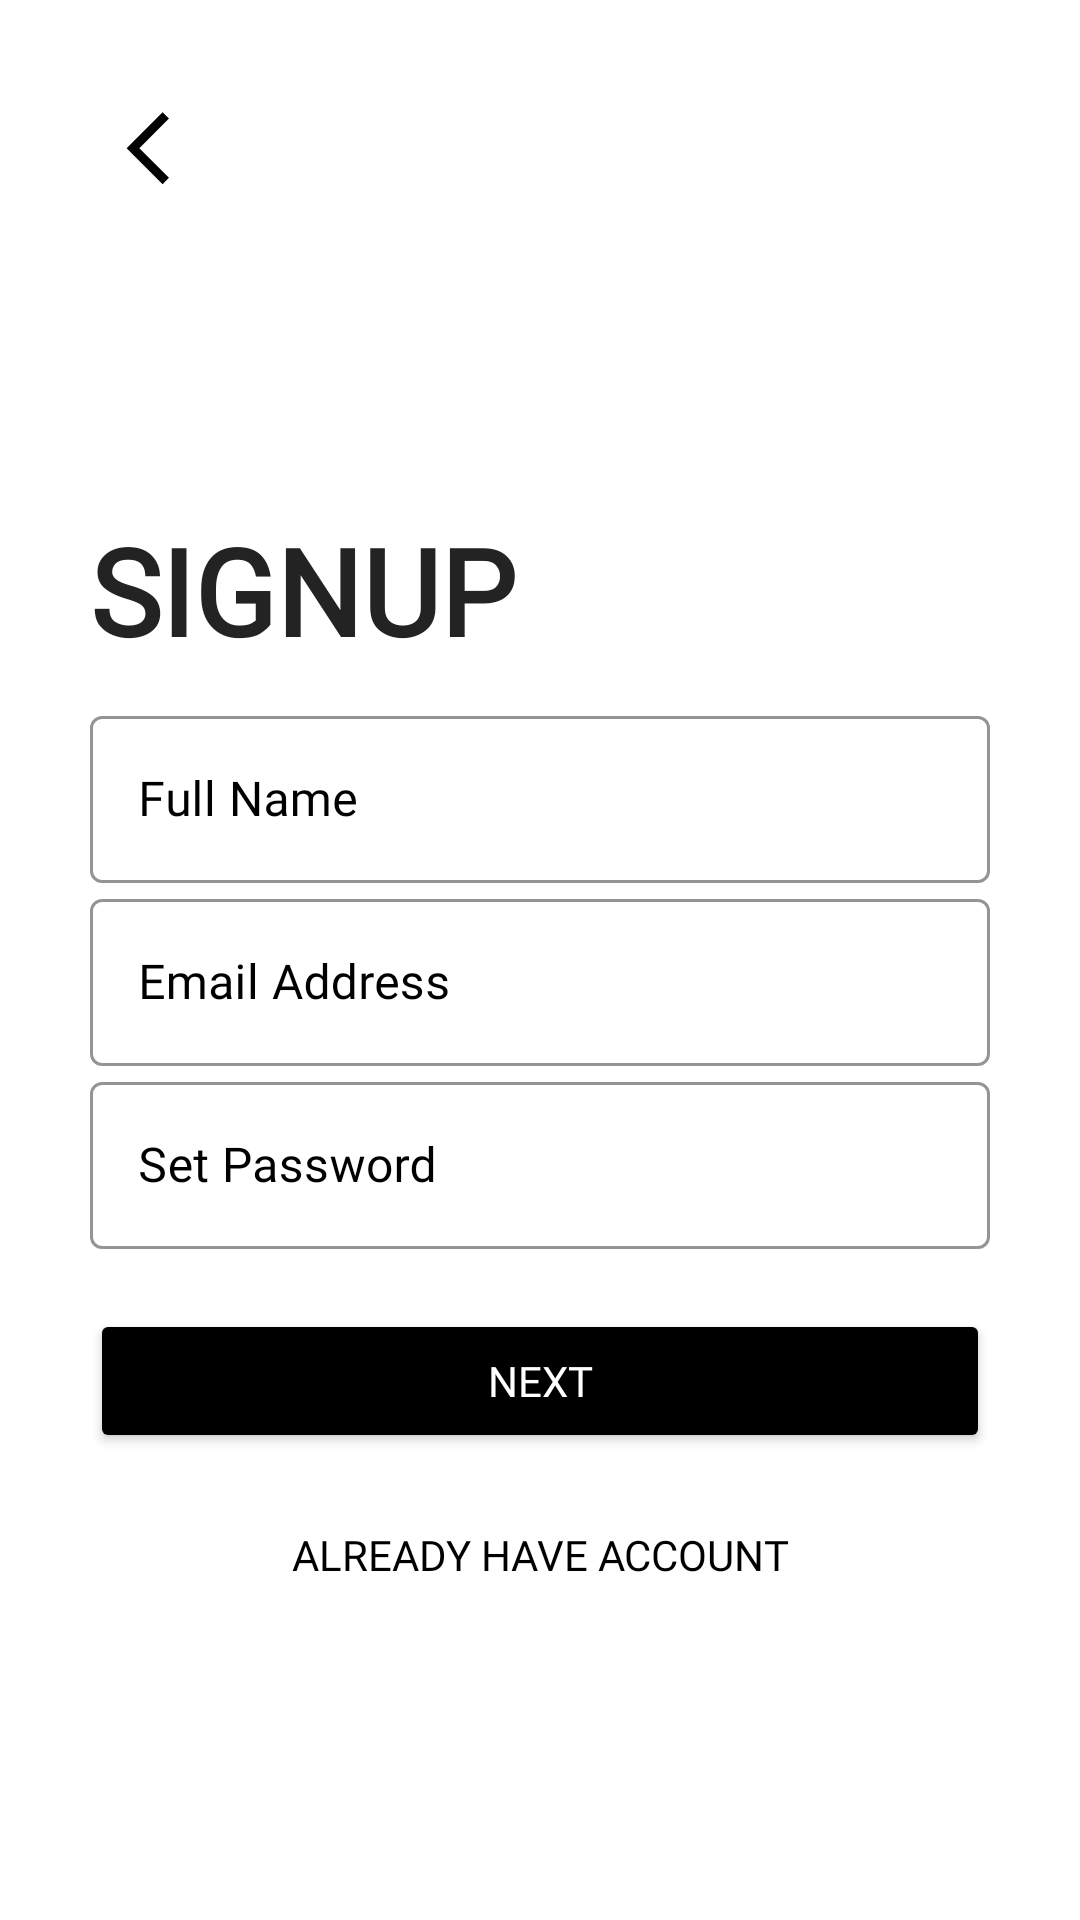

Icons on this 1080px x 1920px Android screen, each with the point to tap as point (x, y):
arrow back: point (147, 148)
